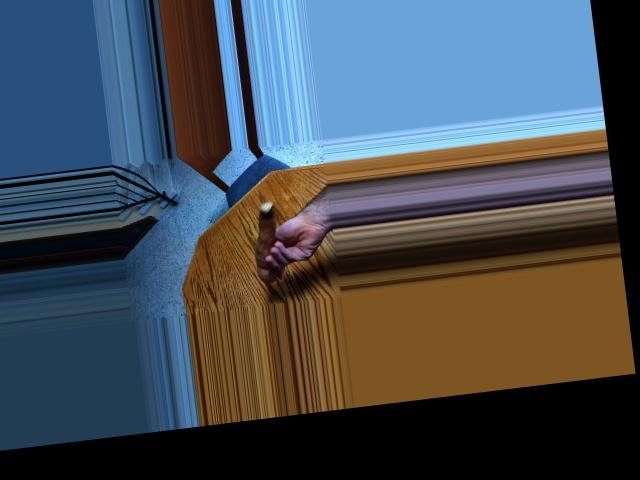sweet_potato: (246, 202, 290, 285)
